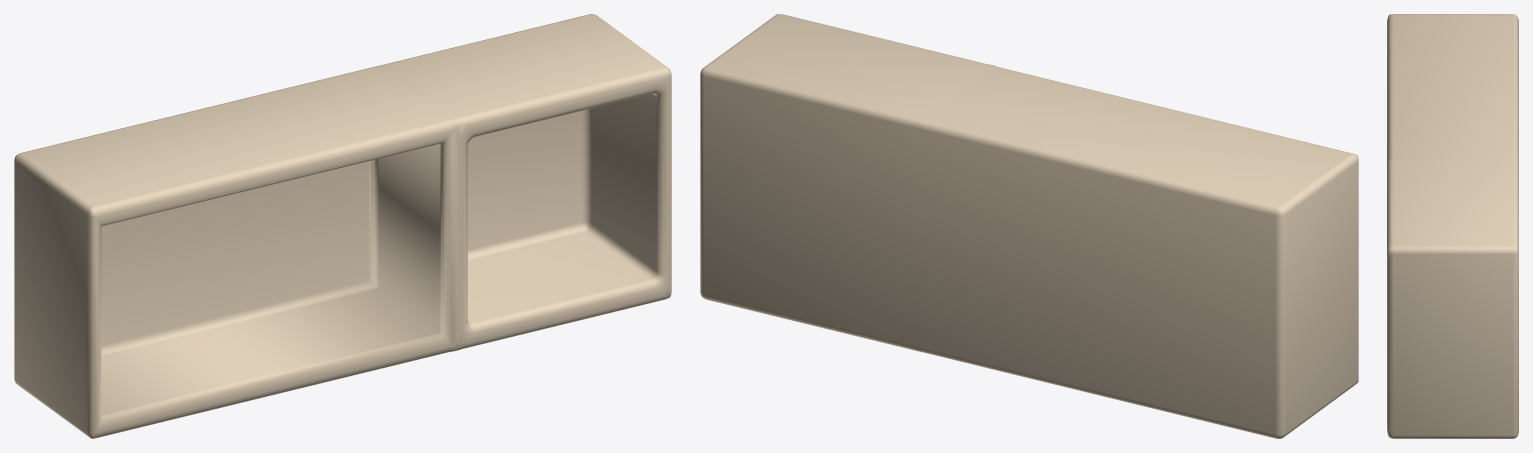
File: Closet.fbx
3 views of the same model, side by side, from view 1: azimuth 30°, elevation 25°; view 2: azimuth 150°, elevation 25°; view 3: azimuth 270°, elevation 25° (orthographic). The views are drawn at different scales.
Visible parts, largest first — view 1: Closet; view 2: Closet; view 3: Closet.
Boxes of the visible parts, left/top/right/bottom form: Closet: left=14, top=14, right=671, bottom=438; Closet: left=700, top=14, right=1358, bottom=438; Closet: left=1387, top=14, right=1518, bottom=438.
Bounding box in the file's own units: 144 × 54.79 × 33.98.
